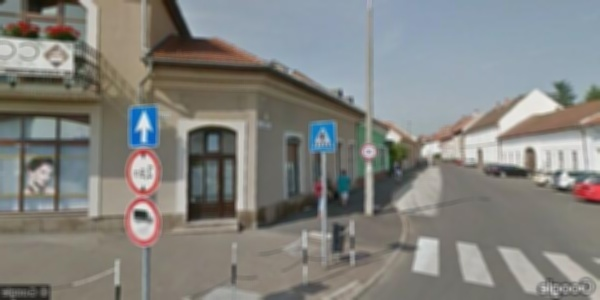b_speed_limit: (359, 143, 377, 160)
f_others: (125, 148, 162, 197), (125, 197, 161, 247)
